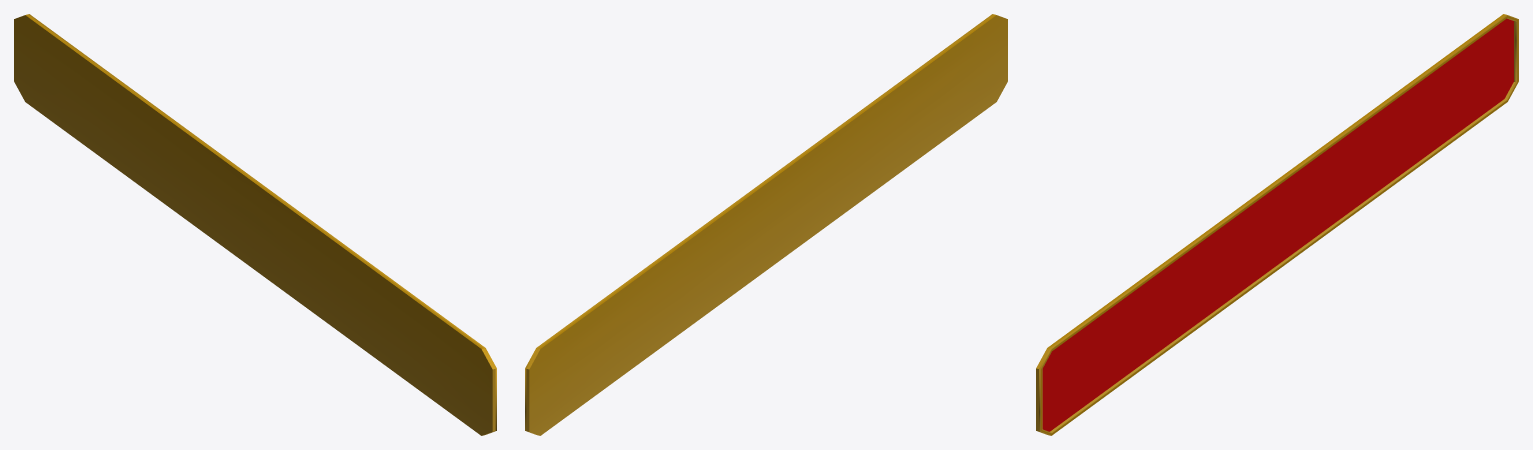
File: Long_flame.obj
3 renders of one model, left to right at view 1: azimuth 30°, elevation 25°; view 2: azimuth 150°, elevation 25°; view 3: azimuth 330°, elevation 25°, orthographic.
Parts seen in each view (by area): view 1: Cube.001; view 2: Cube.001; view 3: Cube.001.
Boxes of the visible parts, left/top/right/bottom form: Cube.001: left=14, top=14, right=496, bottom=435; Cube.001: left=525, top=14, right=1007, bottom=435; Cube.001: left=1036, top=14, right=1518, bottom=435.
Bounding box in the file's own units: 0.1254 × 2.38 × 23.78.
1 material, 1 textured.
